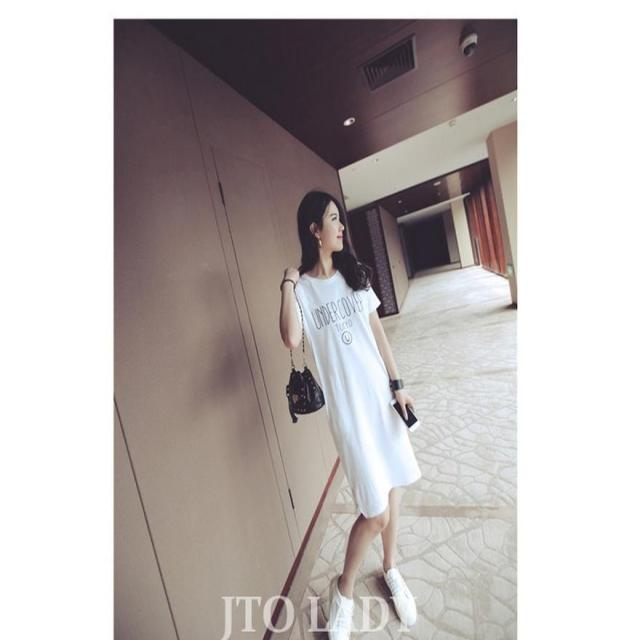short sleeve dress: (284, 263, 423, 518)
